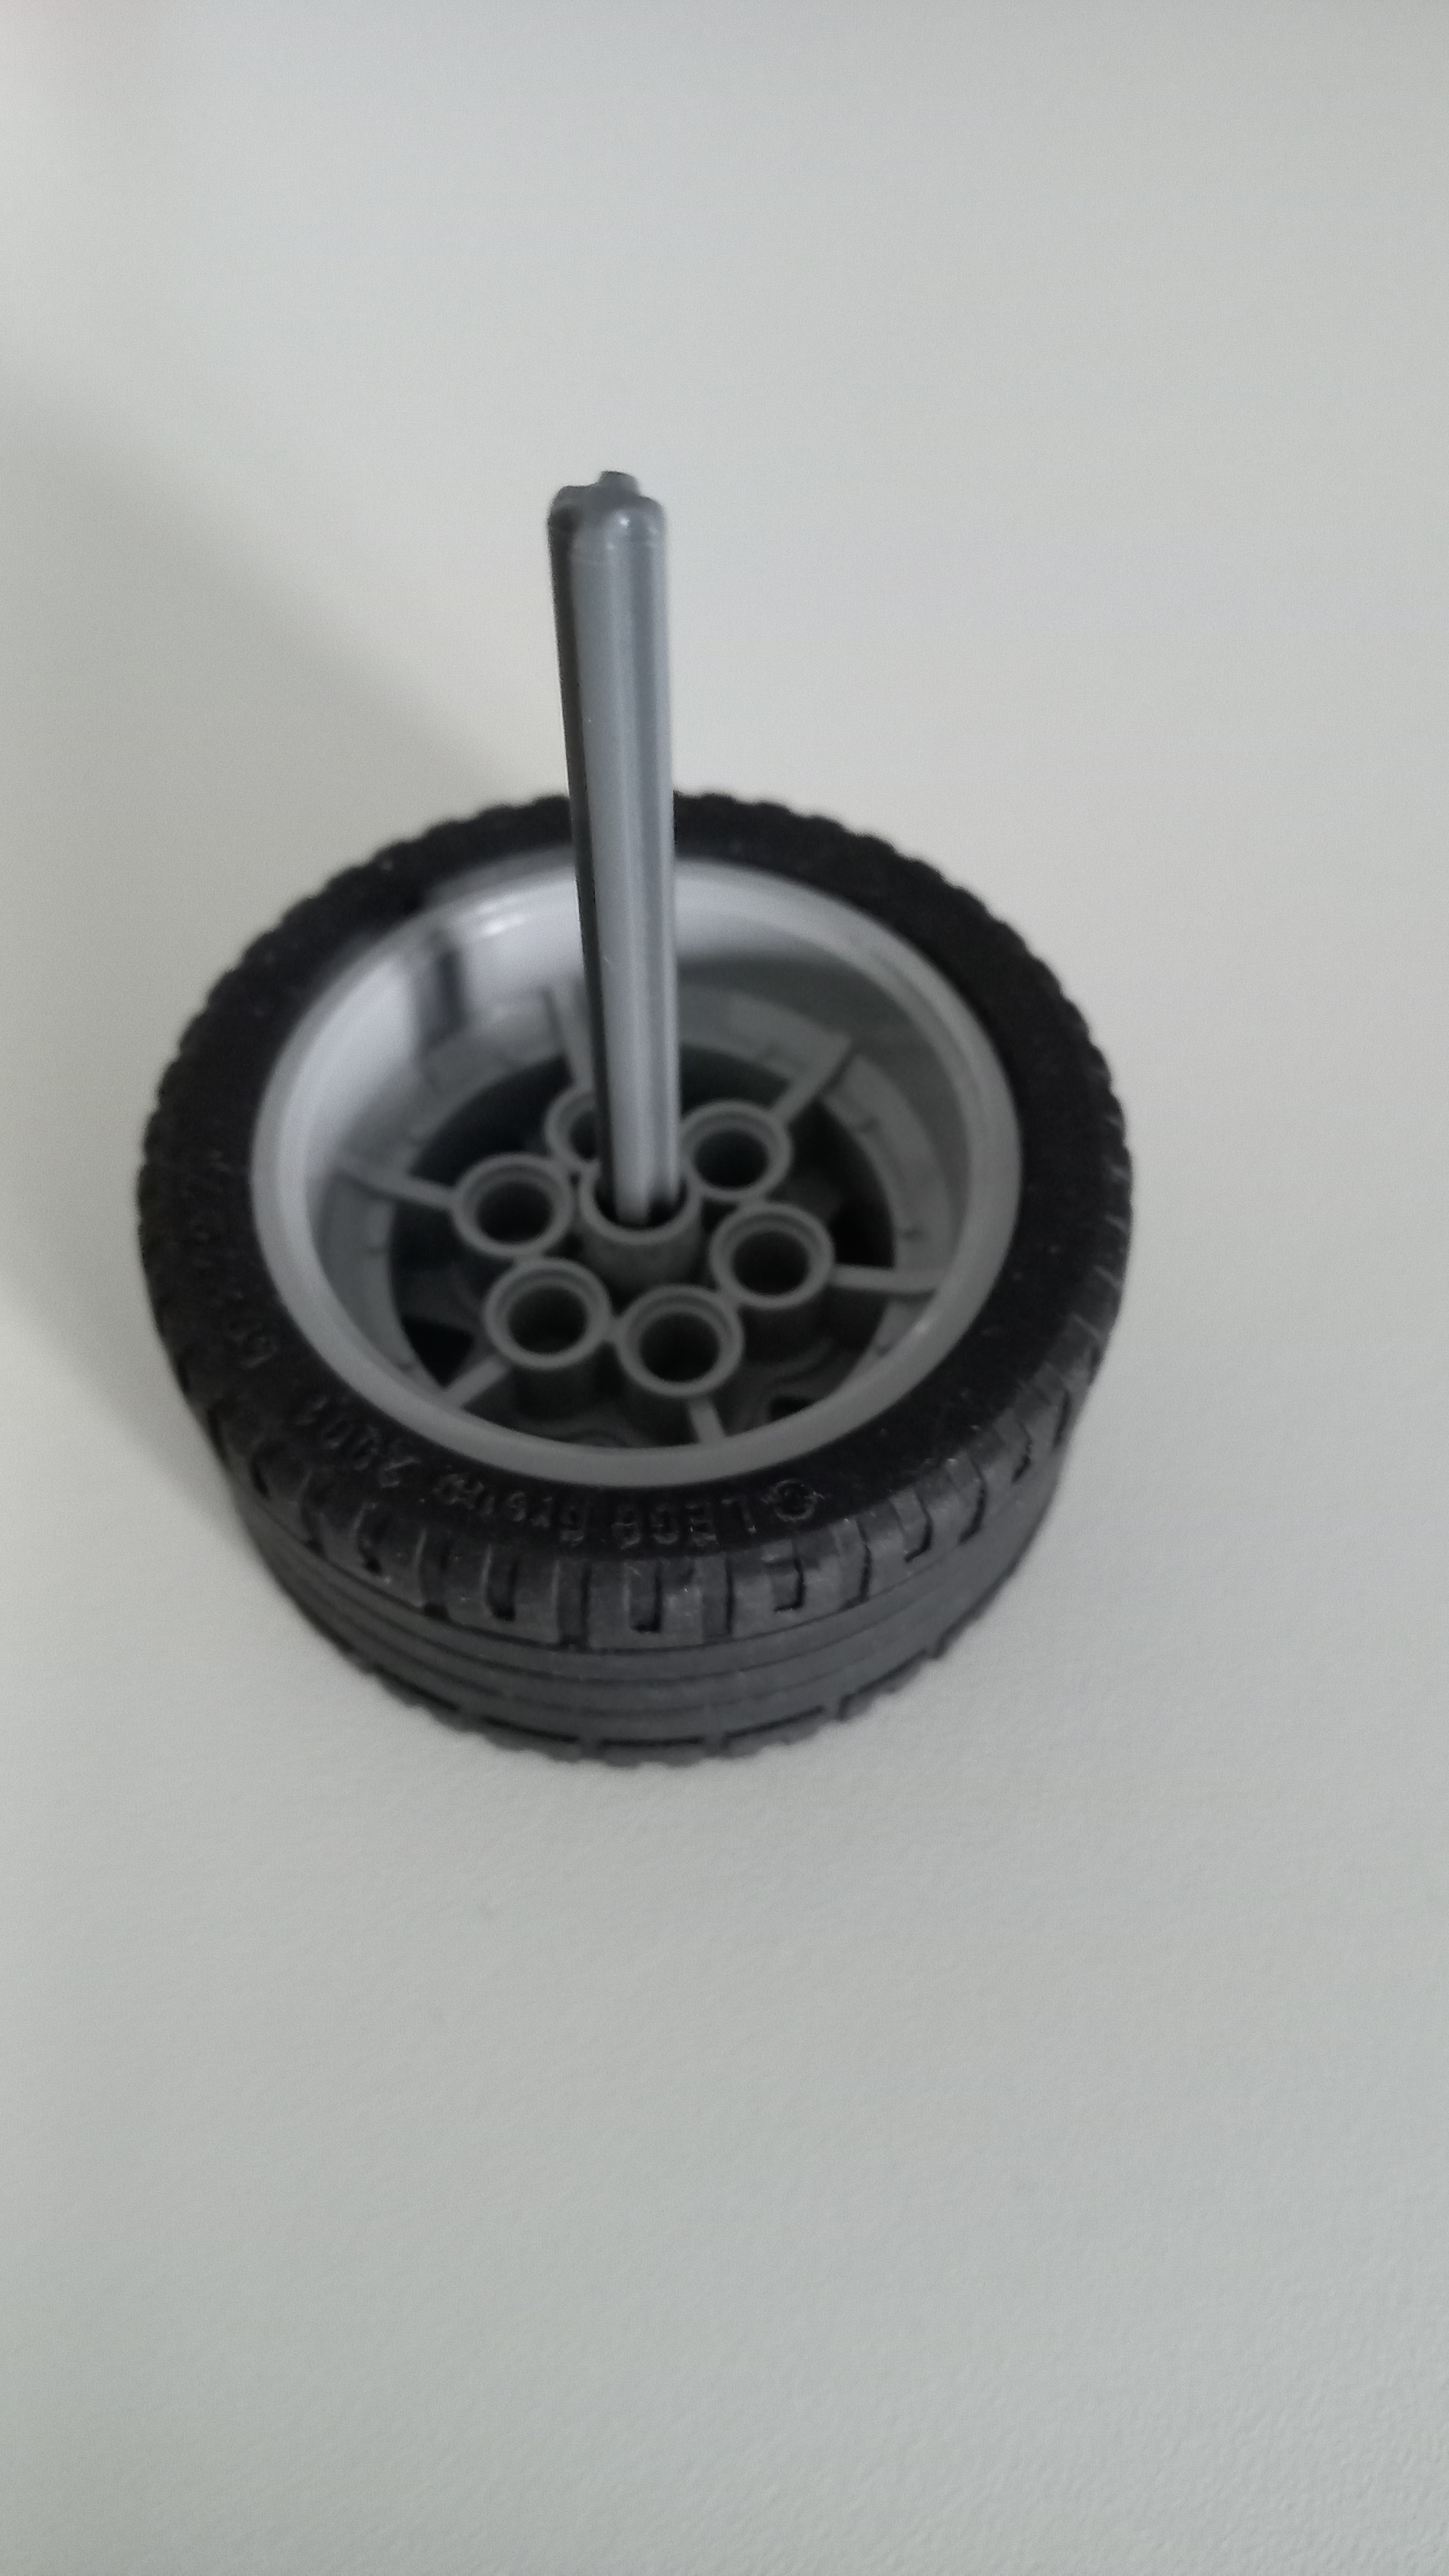Rad+Grau_lang: (110, 451, 1155, 1805)
